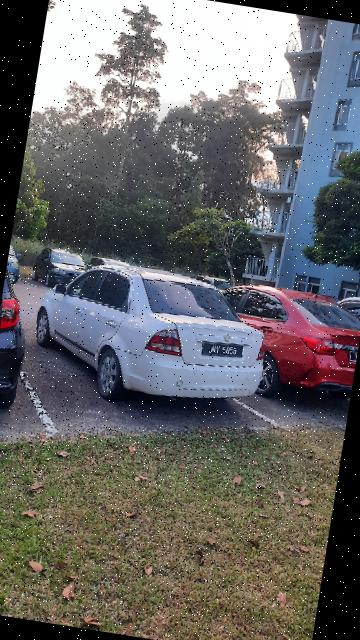License_Plate: (200, 341, 250, 364)
car: (24, 253, 278, 426)
